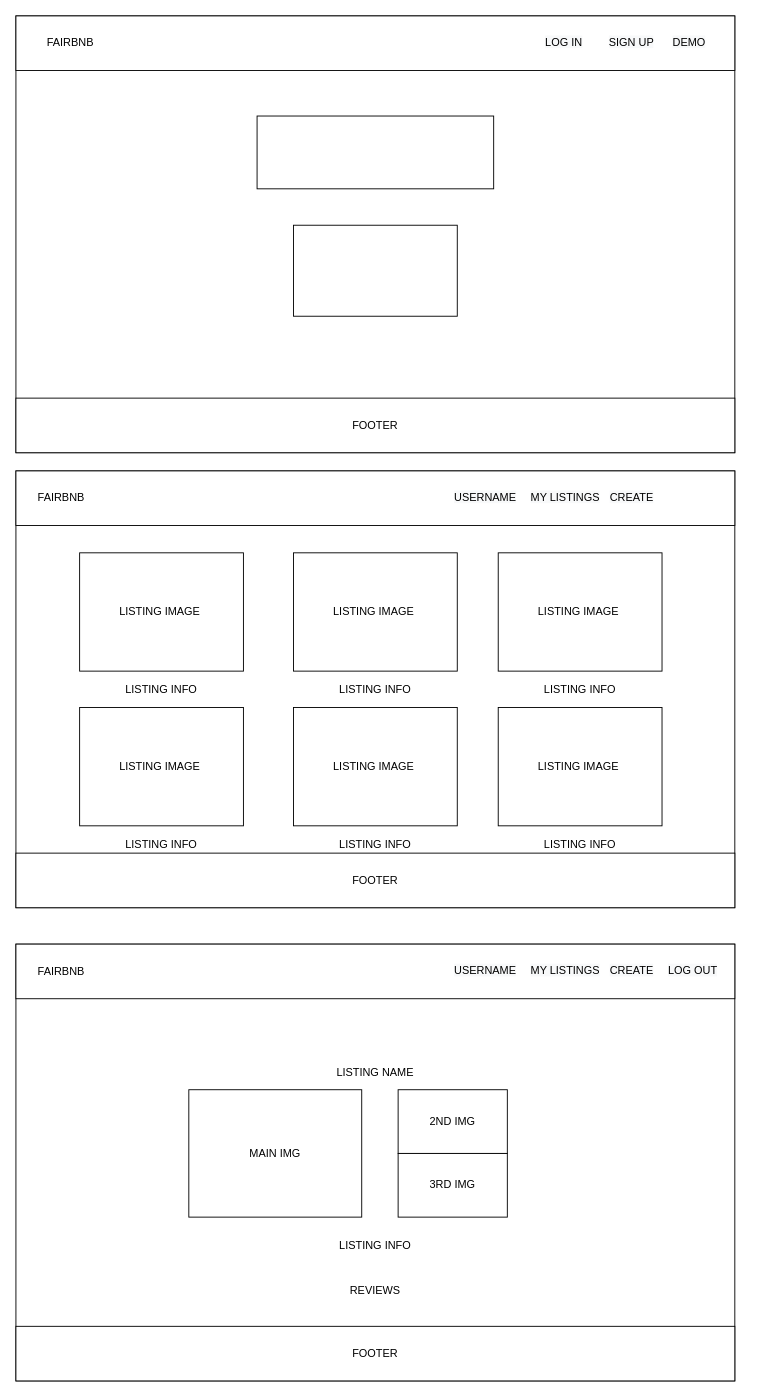
This 760x1397 diagram has some shape labels left out. The centre of each missing label's shape, as x and y in pixels:
ABOUT APP: (x=375, y=152)
ENTER: (x=375, y=270)
